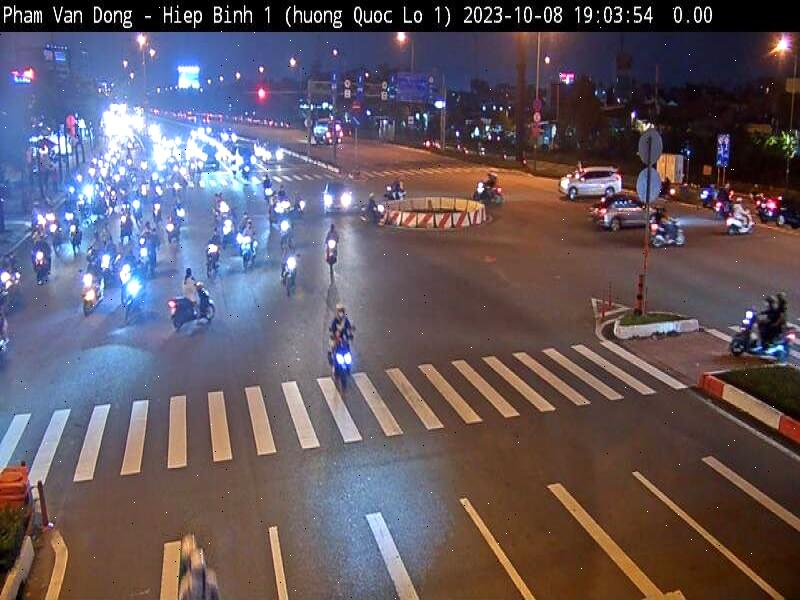car: (588, 186, 670, 232), (557, 162, 625, 206), (755, 188, 800, 232)
motorcycle: (727, 305, 800, 365), (167, 282, 217, 332), (326, 335, 356, 398), (78, 268, 109, 318), (119, 274, 149, 322), (646, 221, 690, 251), (725, 210, 761, 237), (278, 255, 296, 293), (322, 238, 341, 274)
